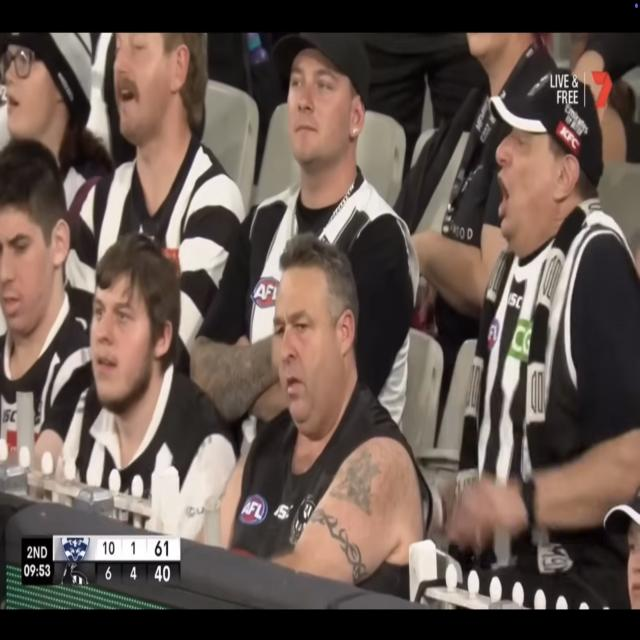crowd: (0, 23, 640, 607)
